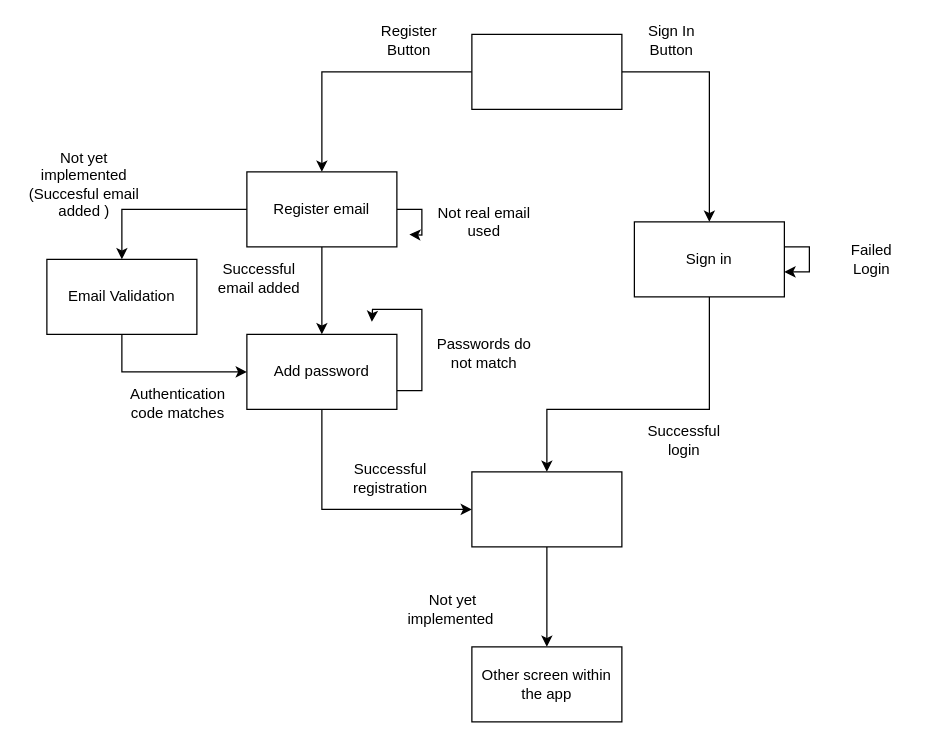
This 930x744 diagram has some shape labels left out. The shapes that lost their labels are listed below. From the top down, each one's box as (x1, y1, x2, y2) in pixels, then its label:
(471, 33, 622, 109): Opening page
(471, 471, 622, 547): Homepage
